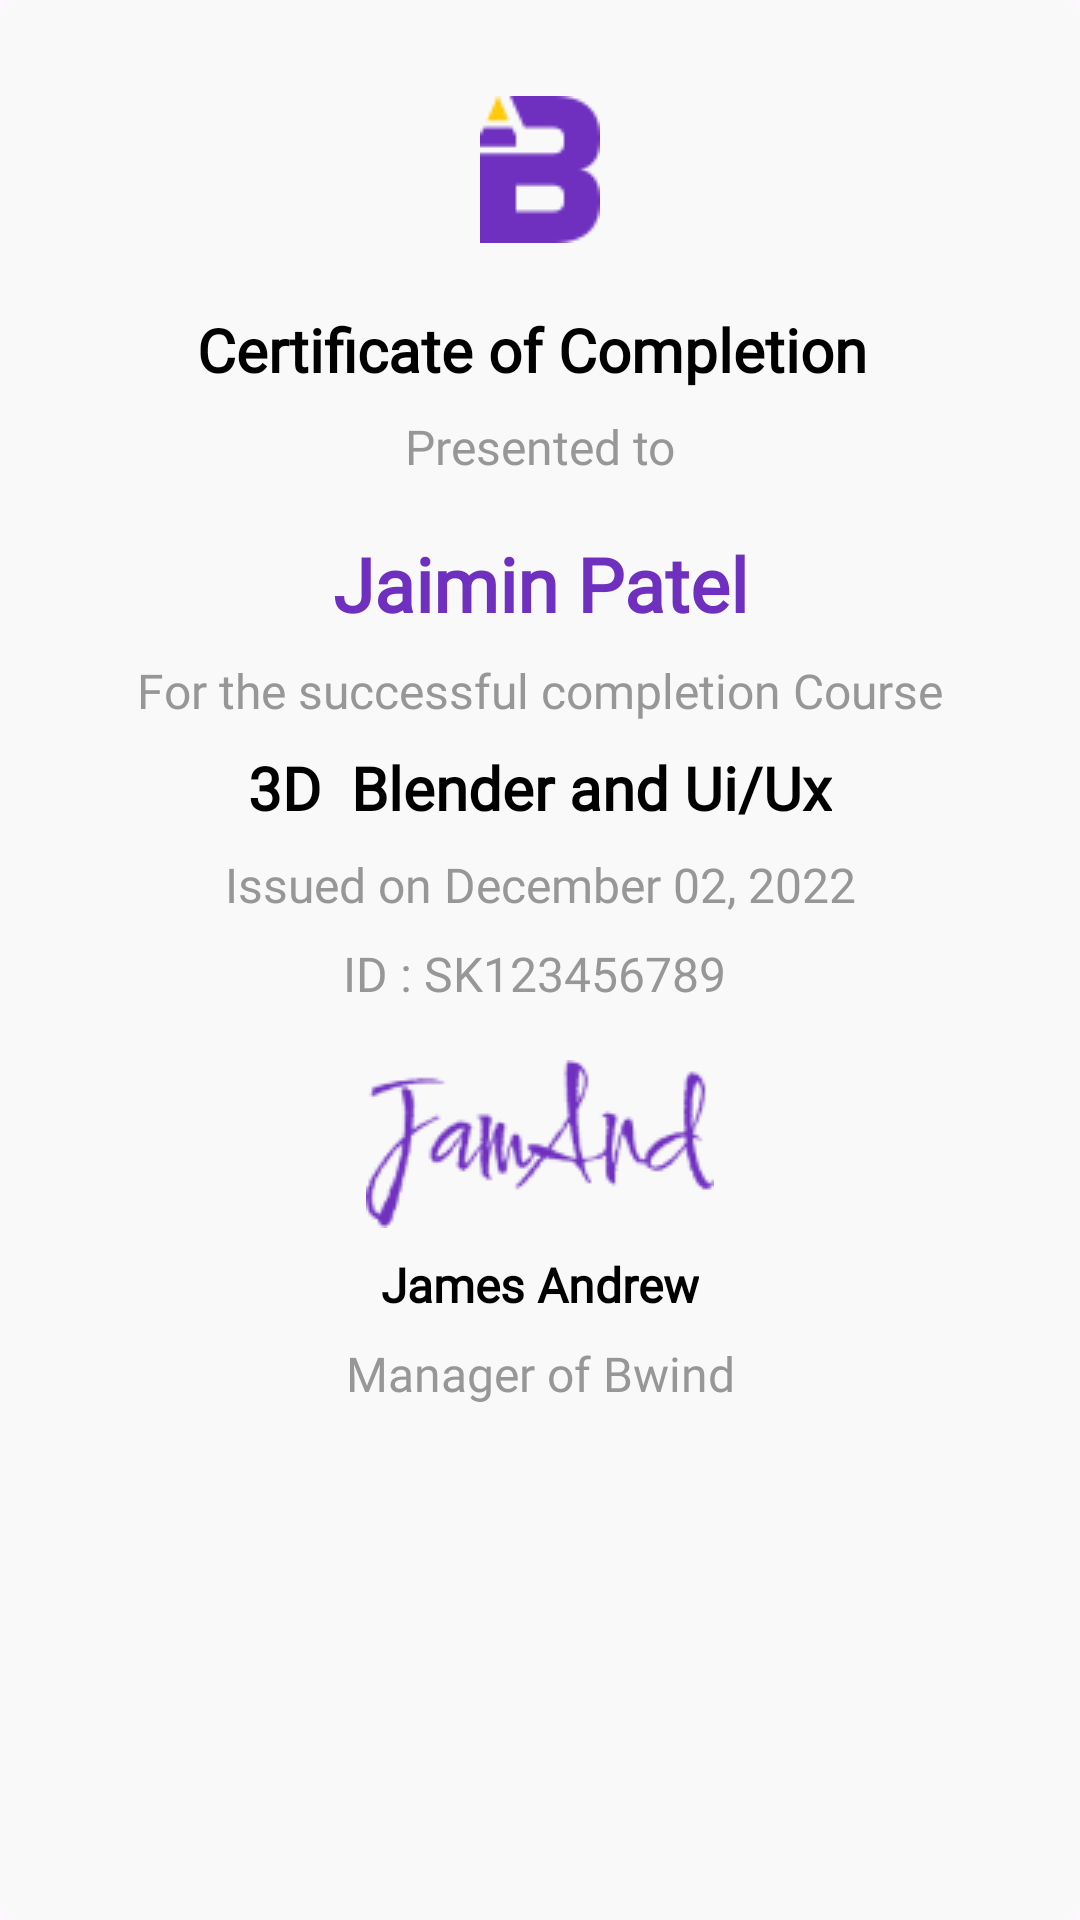

Screen size 1080×1920. Icon name, then its center in pixels as [x,y]:
signature: [540,1144]
